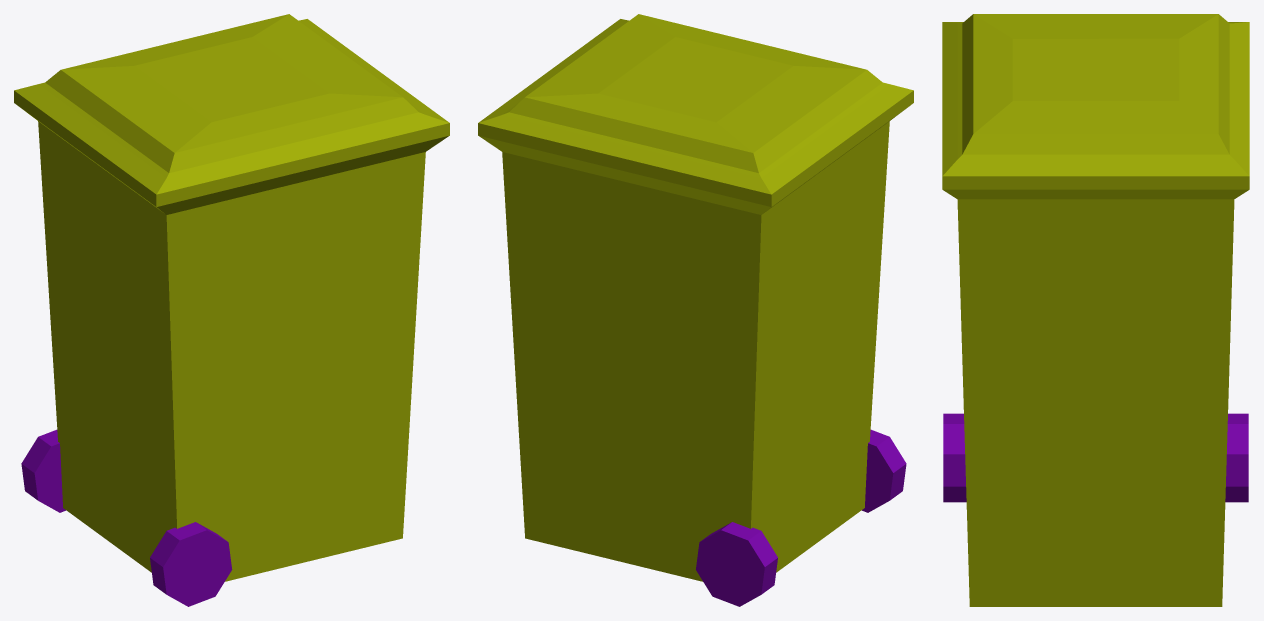
Rendered from Muelltonne_Kurz.fbx.
3 renders of one model, left to right at view 1: azimuth 30°, elevation 25°; view 2: azimuth 150°, elevation 25°; view 3: azimuth 270°, elevation 25°, orthographic. The views are drawn at different scales.
Parts seen in each view (by area): view 1: Muelltonne_Kurz1; view 2: Muelltonne_Kurz1; view 3: Muelltonne_Kurz1.
Boxes of the visible parts, box(x1,y1,x2,y2) form: Muelltonne_Kurz1: box(14, 14, 449, 606); Muelltonne_Kurz1: box(478, 14, 913, 606); Muelltonne_Kurz1: box(942, 14, 1249, 606).
Size of the model in its own units: 70.76 by 103 by 59.47.
